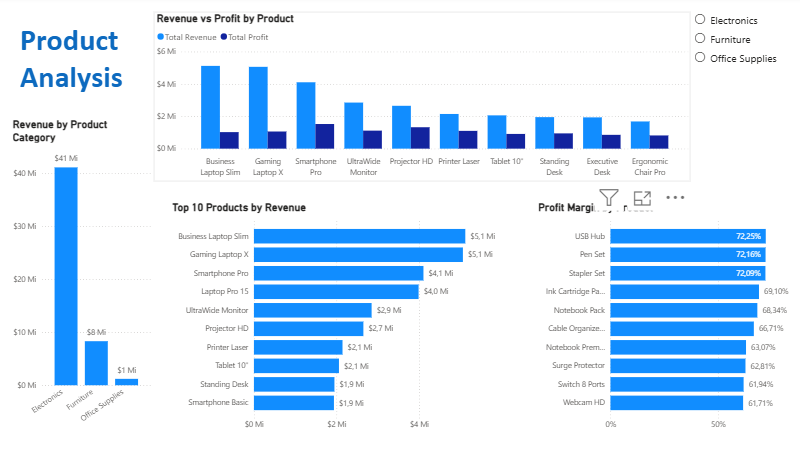

This screenshot's page, from the dashboard's own definition file:
{"tool":"powerbi","page":{"name":"Product Analysis","canvas":[1280,720],"ordinal":1},"visuals":[{"type":"textbox","box":[35.8,33.4,203.1,126.6],"z":0},{"type":"listSlicer","fields":{"Values":["dim_products.category"]},"box":[1103.6,16.7,155.3,255.6],"z":1000},{"type":"barChart","title":"Top 10 Products by Revenue","fields":{"Category":["dim_products.product_name"],"Y":["fact_sales.Total Revenue"]},"box":[277.1,324.9,542.3,372.7],"z":2000},{"type":"columnChart","title":"Revenue by Product Category","fields":{"Y":["fact_sales.Total Revenue"],"Category":["dim_products.category"]},"box":[23.9,193.5,229.3,504],"z":3000},{"type":"barChart","title":"Profit Margin by Product","fields":{"Category":["dim_products.product_name"],"Y":["fact_sales.Margin %"]},"box":[855.2,324.9,425.2,372.7],"z":4000},{"type":"clusteredColumnChart","title":"Revenue vs Profit by Product","fields":{"Category":["dim_products.product_name"],"Y":["fact_sales.Total Revenue","fact_sales.Total Profit"]},"box":[253.2,23.9,850.4,269.9],"z":5000}]}

Visuals, with their boxes in screenshot pixels (x1, y1, x2, y2), scaled from the page's 1280x720 canvas onto the 800x449 screenshot:
textbox: pyautogui.locateOnScreen(22, 21, 149, 100)
listSlicer - dim_products.category: pyautogui.locateOnScreen(690, 10, 787, 170)
"Top 10 Products by Revenue" barChart: pyautogui.locateOnScreen(173, 203, 512, 435)
"Revenue by Product Category" columnChart: pyautogui.locateOnScreen(15, 121, 158, 435)
"Profit Margin by Product" barChart: pyautogui.locateOnScreen(534, 203, 799, 435)
"Revenue vs Profit by Product" clusteredColumnChart: pyautogui.locateOnScreen(158, 15, 690, 183)
